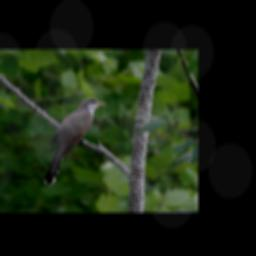Cuckoo: (42, 97, 109, 186)
